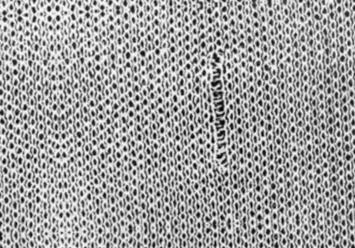slub: (205, 47, 231, 180)
